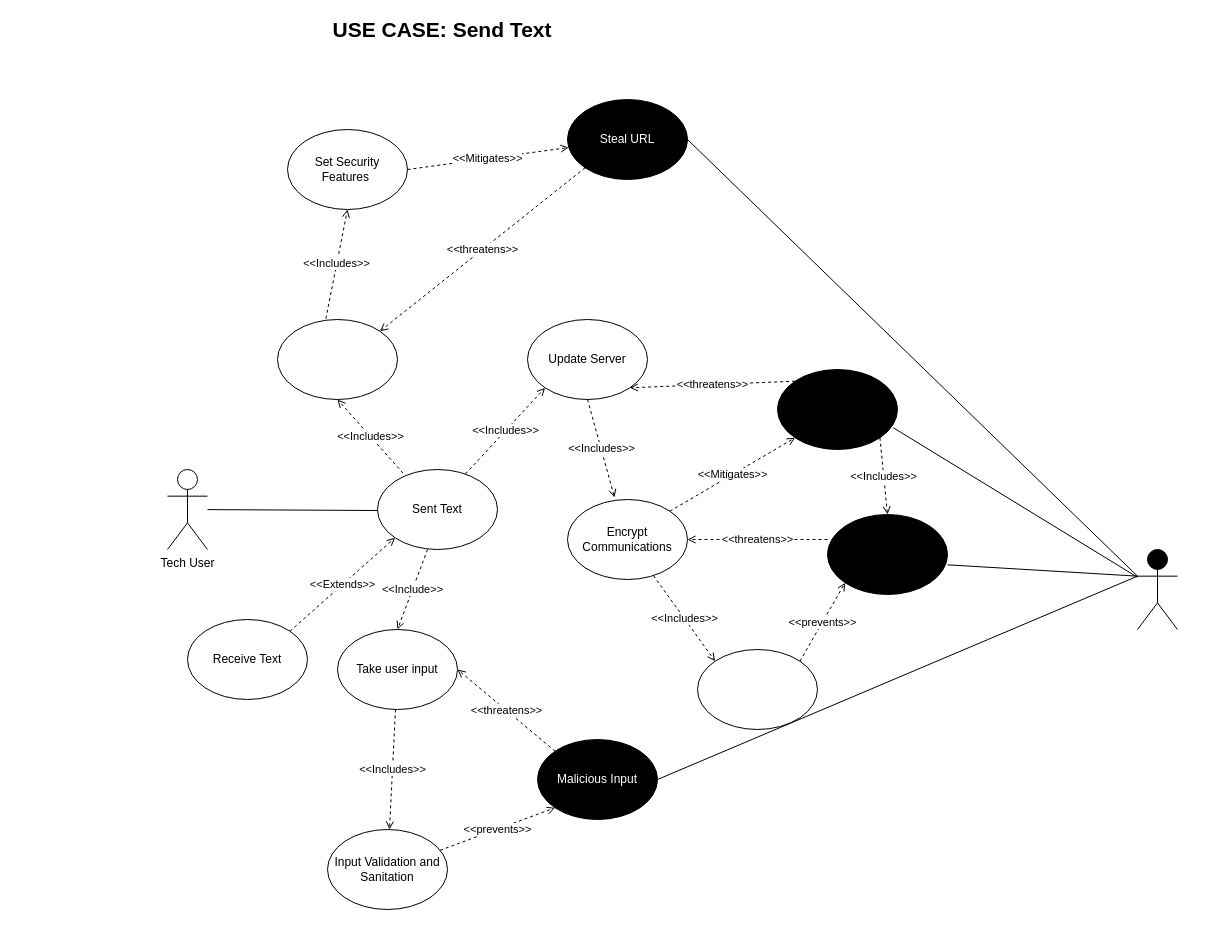
Some shapes in this 1215 by 927 pixel diagram are drawn without their labels. Each missing label, with the centre of its shape:
Exploit Weak Crypto: (x=887, y=554)
Generate URL: (x=337, y=359)
Network Eavesdrop: (x=837, y=409)
Rival Company: (x=1157, y=589)
Strong Encryption Algorithm: (x=757, y=689)
